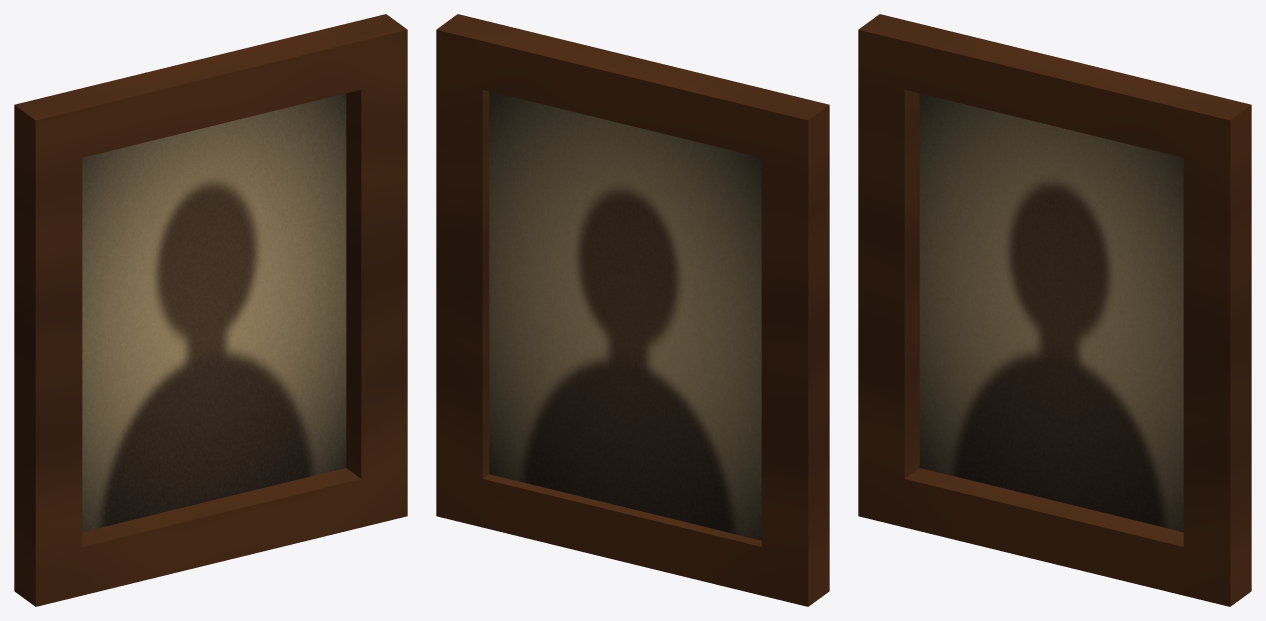
File: marco.obj
3 renders of one model, left to right at view 1: azimuth 30°, elevation 25°; view 2: azimuth 150°, elevation 25°; view 3: azimuth 330°, elevation 25°, orthographic.
Parts seen in each view (by area): view 1: marco; view 2: marco; view 3: marco.
Part boxes in pixels (box(x1,y1,x2,y2)): marco: box(14, 14, 407, 606); marco: box(436, 14, 829, 606); marco: box(858, 14, 1251, 606).
Bounding box in the file's own units: 0.2 × 0.25 × 0.02.
Materials: 2 (2 with a texture image).
